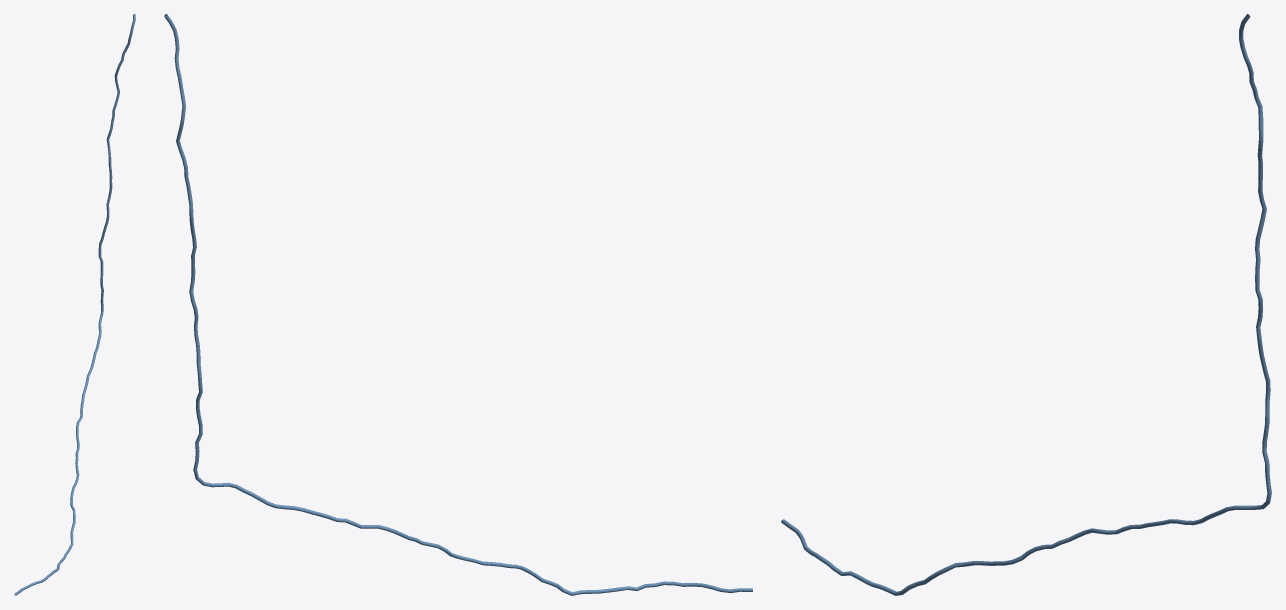
File: sweep162.fbx
3 views of the same model, side by side, from view 1: azimuth 30°, elevation 25°; view 2: azimuth 150°, elevation 25°; view 3: azimuth 270°, elevation 25° (orthographic). The views are drawn at different scales.
Visible parts, largest first — view 1: sweep162; view 2: sweep162; view 3: sweep162.
Part boxes in pixels (x1,y1,x2,y2): sweep162: [14, 14, 135, 595]; sweep162: [164, 14, 752, 595]; sweep162: [781, 14, 1271, 595].
Size of the model in its own units: 2.24 by 3.53 by 2.16.
